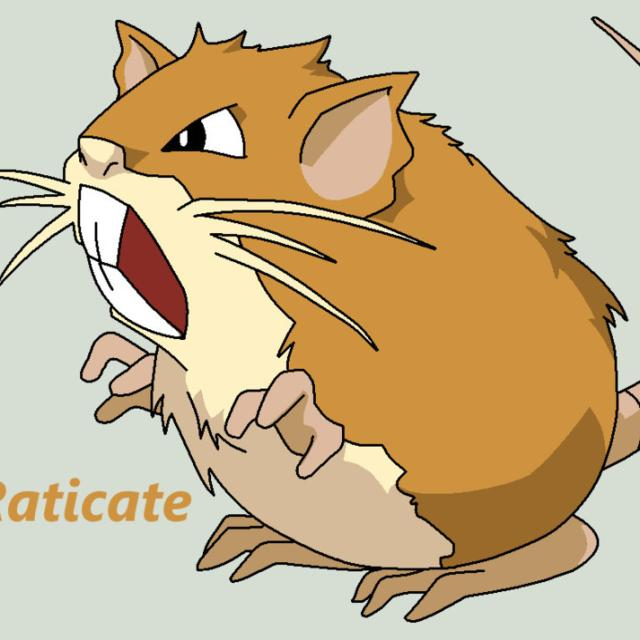Raticate: (42, 31, 640, 606)
